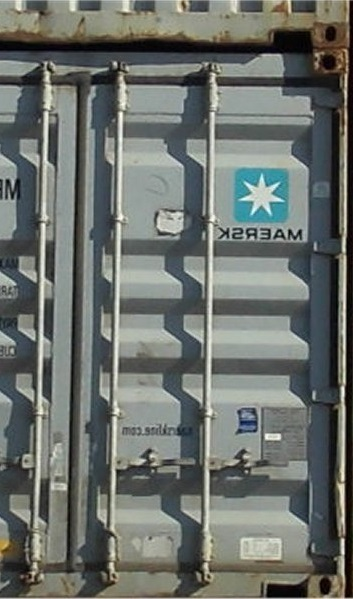container_door: (4, 44, 348, 595)
